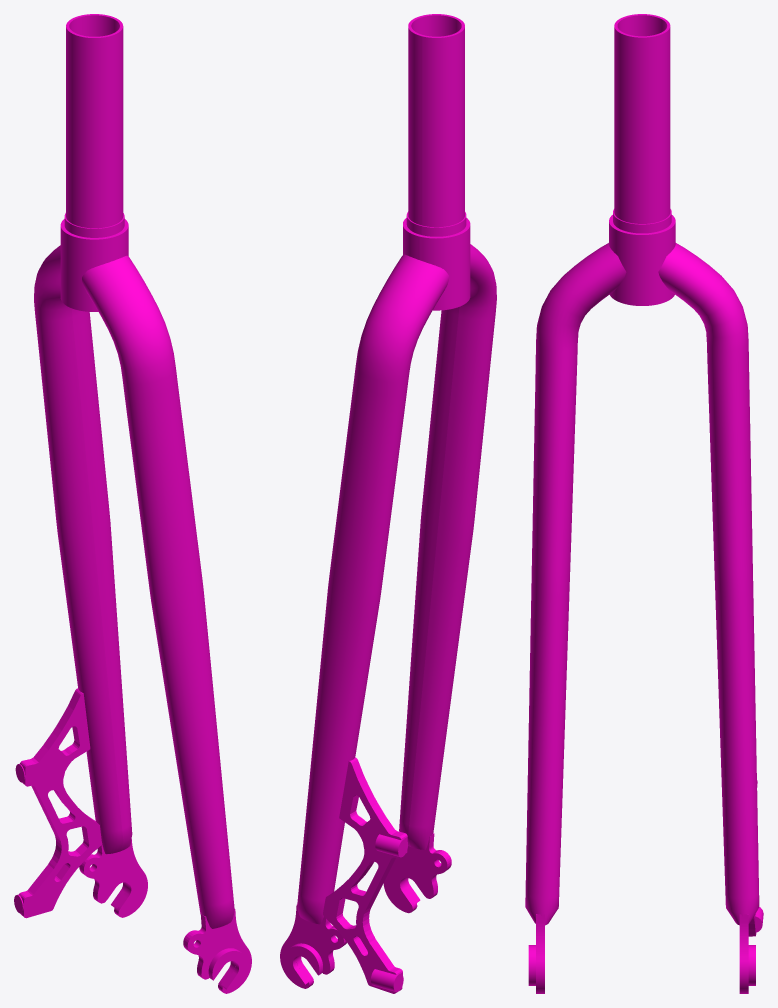
File: Mango_DOG_Fork.glb
3 renders of one model, left to right at view 1: azimuth 30°, elevation 25°; view 2: azimuth 150°, elevation 25°; view 3: azimuth 270°, elevation 25°, orthographic. The views are drawn at different scales.
Visible parts, largest first — view 1: no_transformations (×2); view 2: no_transformations (×2); view 3: no_transformations (×2).
Boxes of the visible parts, bbox=[...] form: no_transformations (×2): bbox=[14, 14, 251, 993]; no_transformations (×2): bbox=[280, 14, 496, 993]; no_transformations (×2): bbox=[525, 14, 763, 993].
Bounding box in the file's own units: 76.59 × 523 × 122.
